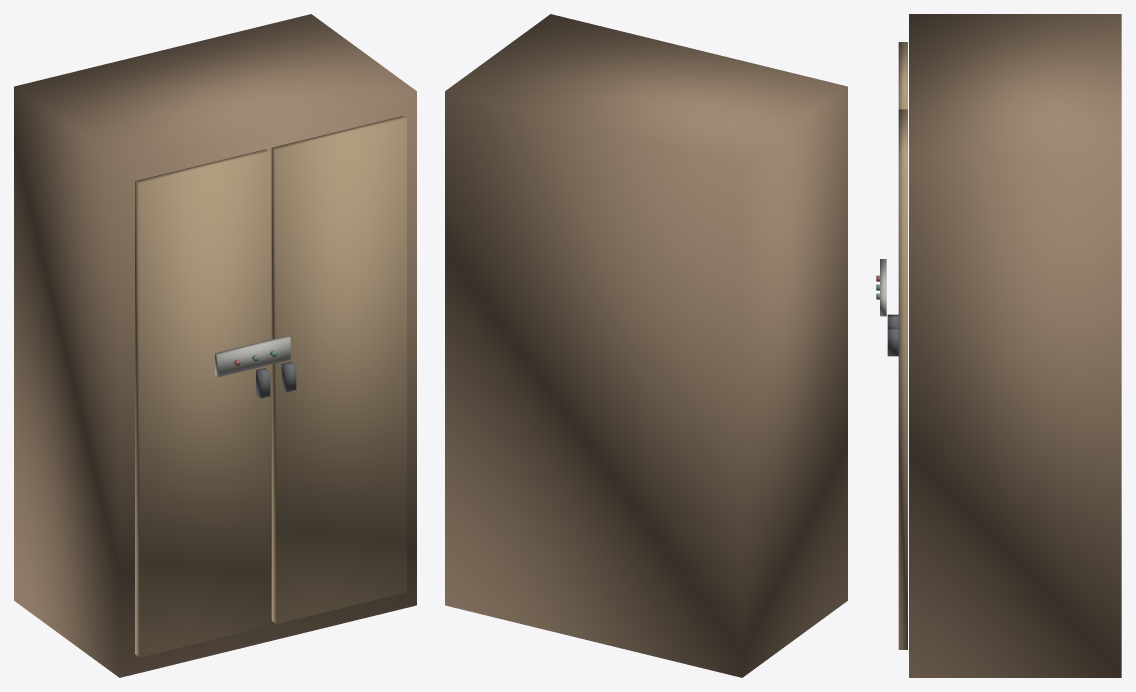
Rendered from wardrobe__deep.glb.
3 views of the same model, side by side, from view 1: azimuth 30°, elevation 25°; view 2: azimuth 150°, elevation 25°; view 3: azimuth 270°, elevation 25° (orthographic).
Parts seen in each view (by area): view 1: world; view 2: world; view 3: world.
Boxes of the visible parts, x1,y1,x2,y2 form: world: (14,14,416,677); world: (445,14,847,677); world: (876,14,1121,677).
Bounding box in the file's own units: 1.15 × 1.9 × 0.8156.
